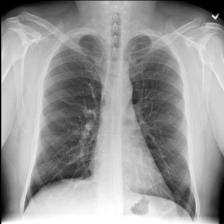normal: (18, 27, 200, 221)
